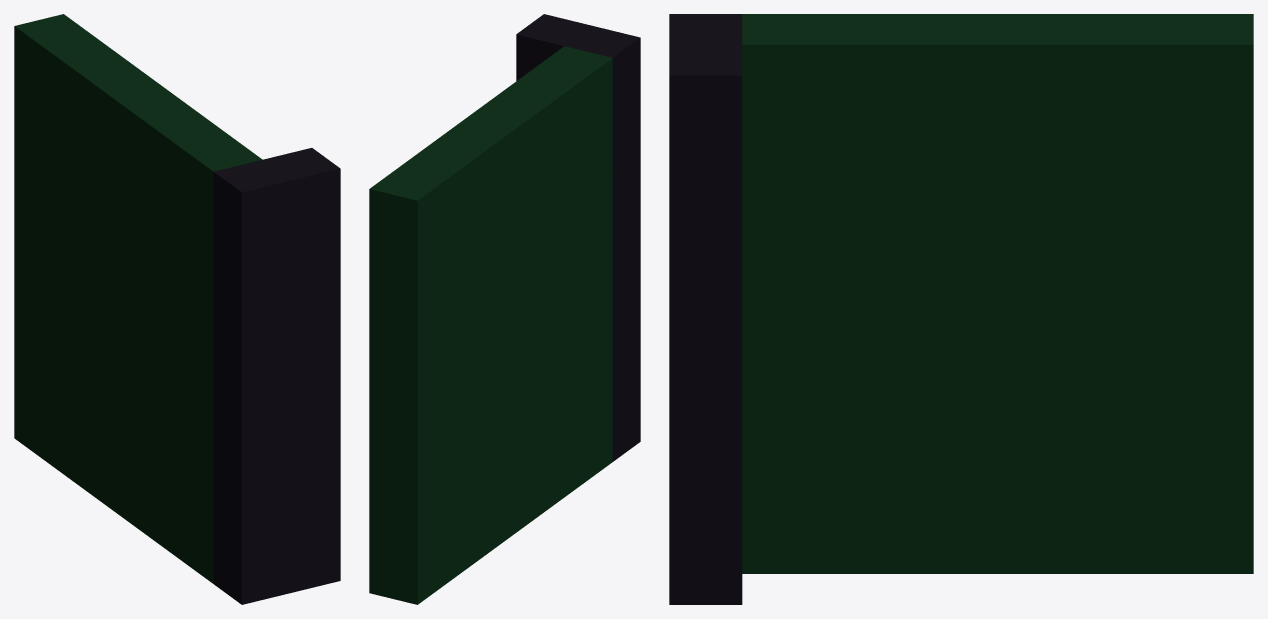
Rendered from DisplayMiniEdge.obj.
The picture shows the model from 3 angles, left to right: view 1: azimuth 30°, elevation 25°; view 2: azimuth 150°, elevation 25°; view 3: azimuth 270°, elevation 25°; orthographic projection. The views are drawn at different scales.
Bounding box in the file's own units: 0.2 × 0.8 × 0.8.
Materials: 1 (1 with a texture image).
